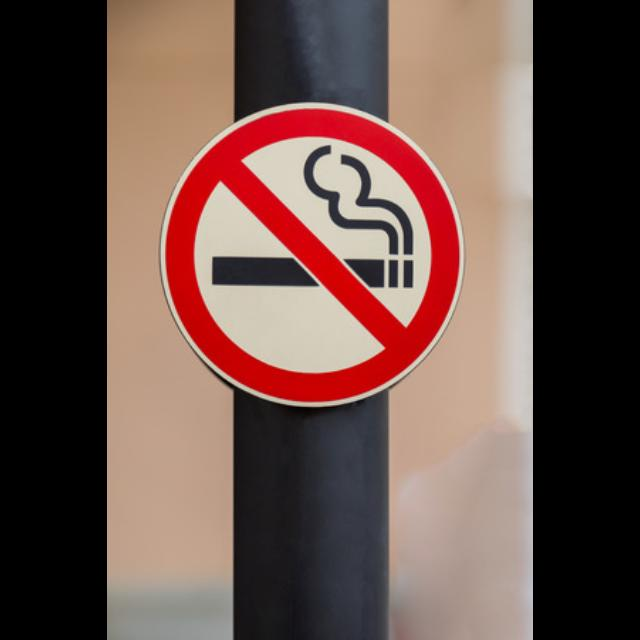cam hut thuoc: (161, 105, 463, 402)
